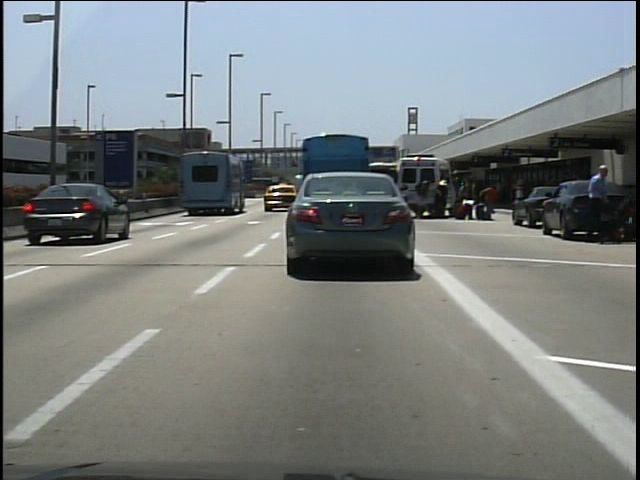person: (582, 158, 616, 243), (430, 175, 451, 222), (457, 177, 477, 221), (414, 174, 433, 220), (479, 181, 498, 224)
